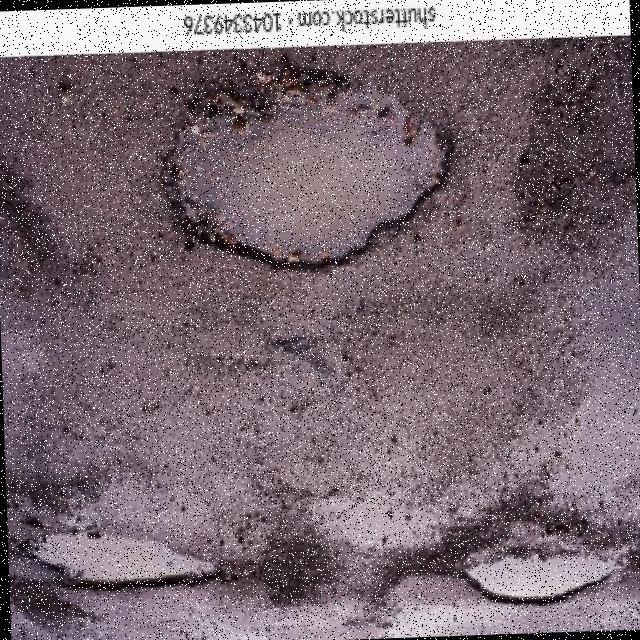Pothole: (160, 69, 445, 270), (36, 531, 213, 581), (466, 552, 616, 605)
